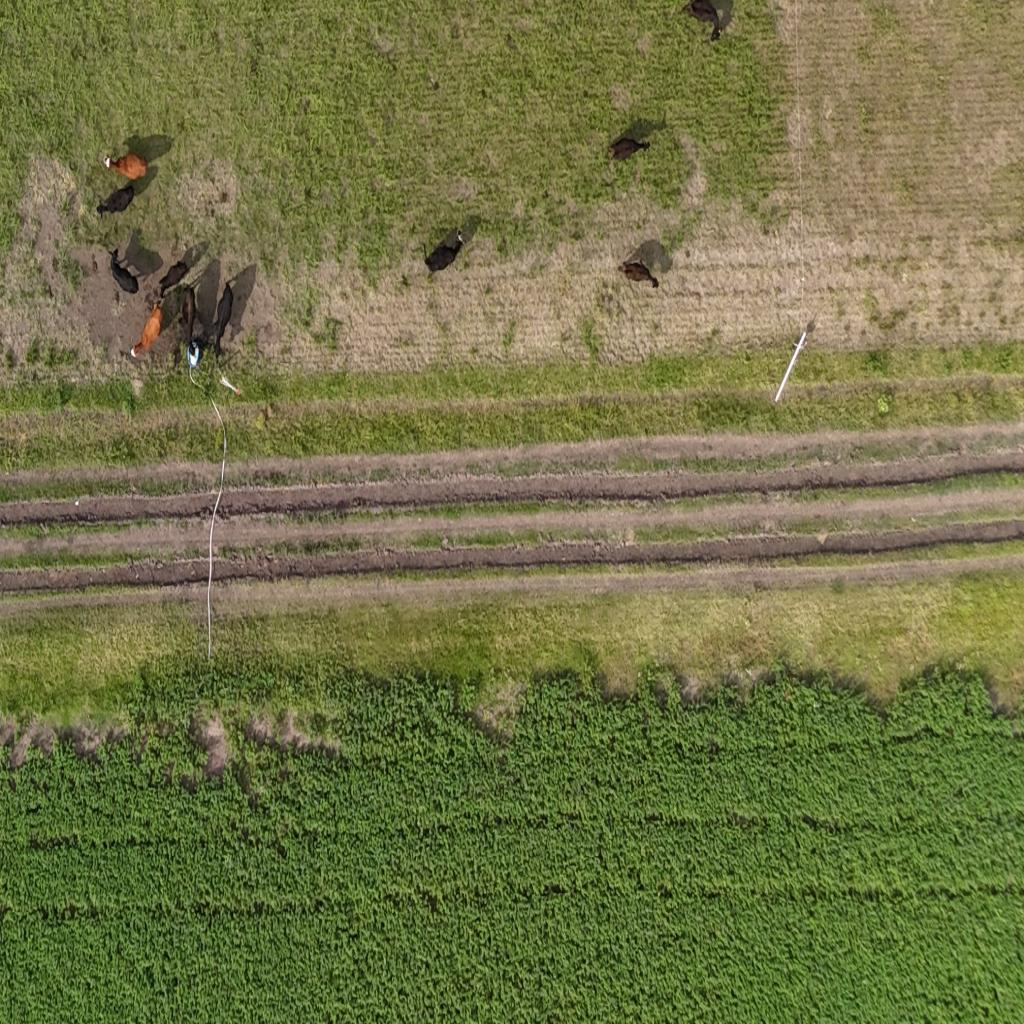cow: (131, 282, 175, 362), (424, 224, 468, 278), (182, 285, 208, 369), (94, 146, 156, 177), (603, 134, 667, 163), (211, 278, 235, 354), (681, 0, 724, 42), (154, 256, 192, 302), (107, 246, 140, 295), (618, 253, 658, 293), (96, 181, 135, 218)
